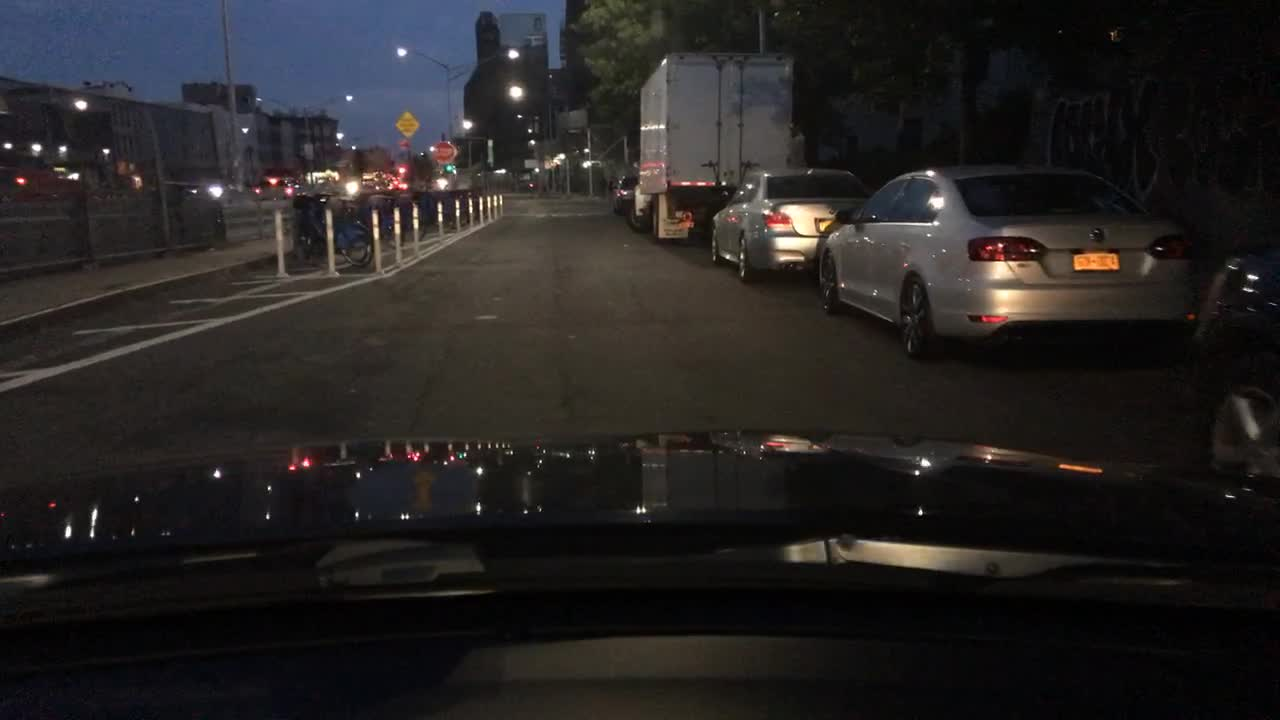bike: (286, 194, 371, 267), (366, 190, 426, 240), (445, 190, 481, 230)
car: (818, 159, 1203, 365), (1181, 245, 1279, 486), (707, 166, 870, 285), (0, 150, 85, 203), (251, 176, 298, 202), (609, 172, 641, 210)
traffic light: (396, 164, 406, 174)
traffic sign: (396, 111, 419, 138), (430, 139, 454, 164), (400, 140, 412, 154)
truck: (633, 53, 793, 245)
